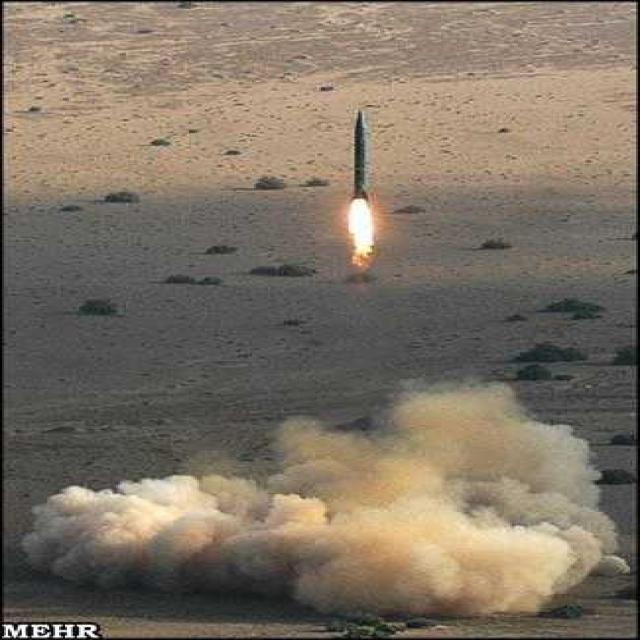missile: (343, 109, 377, 205)
